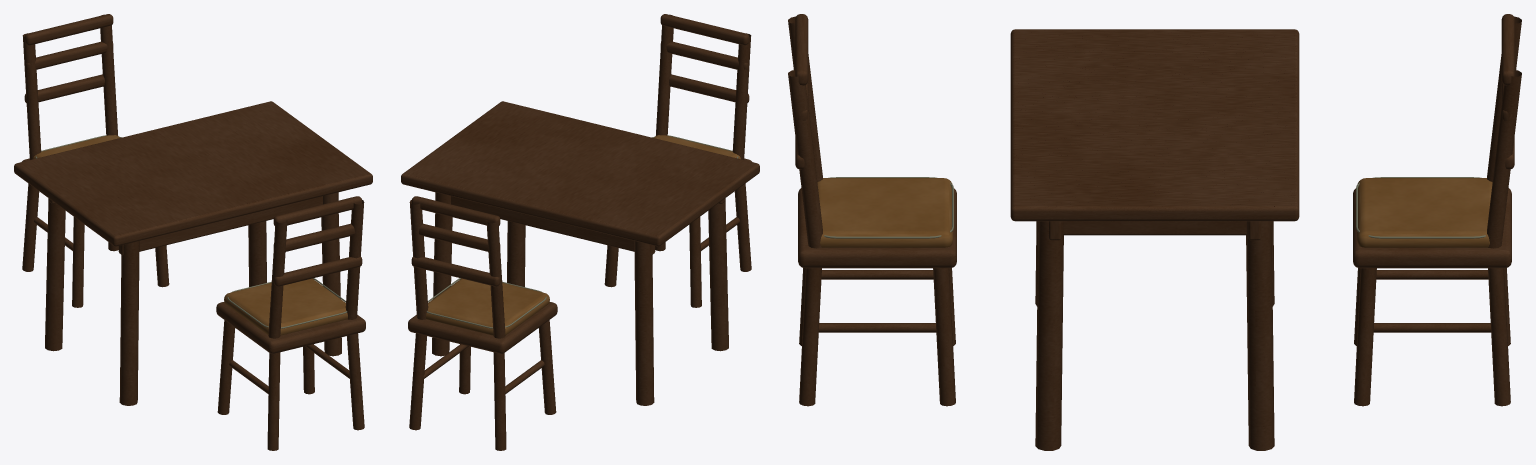
File: table_and_chairs.glb
3 views of the same model, side by side, from view 1: azimuth 30°, elevation 25°; view 2: azimuth 150°, elevation 25°; view 3: azimuth 270°, elevation 25° (orthographic). The views are drawn at different scales.
Visible parts, largest first — view 1: Dining tabletop, Worn seat pad, Tapered table leg, Tapered table leg.001, Dining chair seat, Apron rail, Tapered table leg.002, Back stile.002, Back stile.001, Back stile.003, Back stile, Tapered table leg.003 (+16 smaller); view 2: Dining tabletop, Worn seat pad.001, Tapered table leg.001, Tapered table leg, Dining chair seat.001, Apron rail.001, Tapered table leg.003, Back stile.001, Back stile.002, Back stile, Back stile.003, Tapered table leg.002 (+16 smaller); view 3: Dining tabletop, Worn seat pad, Worn seat pad.001, Tapered table leg.002, Tapered table leg.003, Dining chair seat, Dining chair seat.001, Back stile, Back stile.003, Apron end.001, Chair leg.001, Chair leg.007 (+10 smaller).
Part boxes in pixels (bbox=[...]): Dining tabletop: bbox=[14, 101, 372, 246]; Worn seat pad: bbox=[224, 278, 347, 335]; Tapered table leg: bbox=[119, 241, 139, 405]; Tapered table leg.001: bbox=[45, 200, 65, 351]; Dining chair seat: bbox=[216, 302, 365, 353]; Apron rail: bbox=[118, 192, 338, 255]; Tapered table leg.002: bbox=[321, 192, 341, 356]; Back stile.002: bbox=[22, 33, 41, 159]; Back stile.001: bbox=[268, 220, 287, 338]; Back stile.003: bbox=[100, 14, 117, 135]; Back stile: bbox=[345, 200, 364, 319]; Tapered table leg.003: bbox=[248, 221, 266, 286]; Dining tabletop: bbox=[401, 101, 759, 246]; Worn seat pad.001: bbox=[426, 278, 549, 335]; Tapered table leg.001: bbox=[634, 241, 654, 405]; Tapered table leg: bbox=[708, 200, 728, 351]; Dining chair seat.001: bbox=[408, 302, 557, 353]; Apron rail.001: bbox=[435, 192, 655, 255]; Tapered table leg.003: bbox=[432, 192, 452, 356]; Back stile.001: bbox=[732, 33, 751, 159]; Back stile.002: bbox=[486, 220, 505, 338]; Back stile: bbox=[656, 14, 673, 135]; Back stile.003: bbox=[409, 200, 428, 319]; Tapered table leg.002: bbox=[507, 221, 525, 286]; Dining tabletop: bbox=[1010, 29, 1299, 221]; Worn seat pad: bbox=[817, 178, 952, 247]; Worn seat pad.001: bbox=[1357, 178, 1492, 247]; Tapered table leg.002: bbox=[1035, 221, 1063, 450]; Tapered table leg.003: bbox=[1246, 221, 1274, 450]; Dining chair seat: bbox=[798, 188, 956, 268]; Dining chair seat.001: bbox=[1353, 188, 1511, 268]; Back stile: bbox=[788, 70, 822, 248]; Back stile.003: bbox=[1487, 70, 1521, 248]; Apron end.001: bbox=[1063, 221, 1246, 235]; Chair leg.001: bbox=[799, 268, 821, 406]; Chair leg.007: bbox=[1488, 268, 1510, 406].
Bounding box in the file's own units: 1.15 × 0.9932 × 1.98.
Materials: 3 (2 with a texture image).
